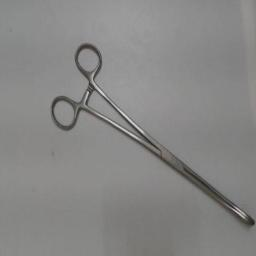Sponge Forceps: (44, 34, 256, 232)
